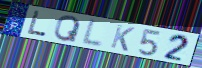2: (160, 33, 192, 64)
5: (136, 27, 164, 58)
K: (109, 23, 137, 53)
L: (80, 18, 105, 49), (26, 9, 48, 38)
Q: (53, 15, 83, 44)
